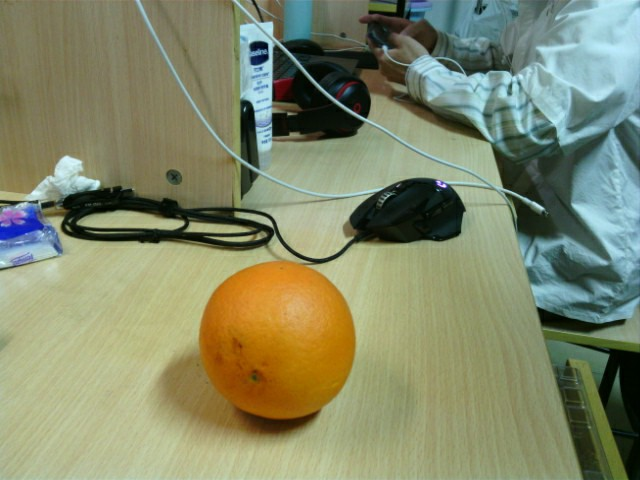normal_orange: (200, 260, 356, 418)
